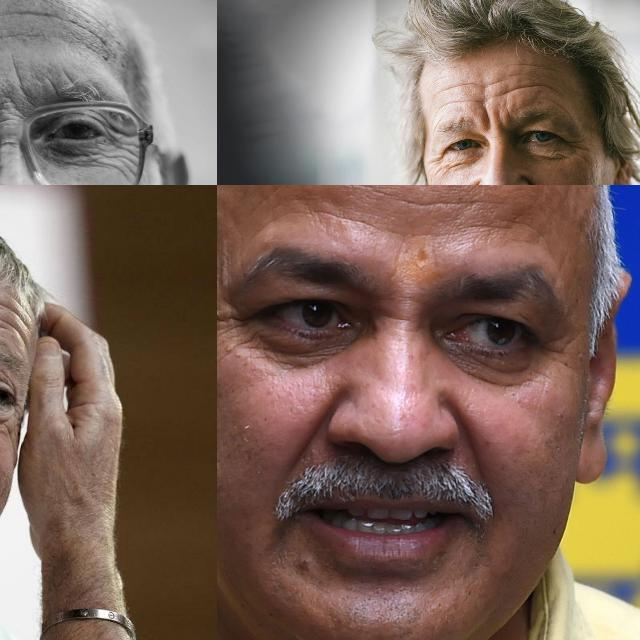crows_feet: (105, 122, 135, 168), (217, 308, 254, 342), (4, 421, 18, 457), (564, 138, 588, 158), (433, 152, 449, 176)
forehead: (312, 207, 392, 233), (494, 71, 554, 99), (48, 6, 94, 40), (413, 190, 477, 214), (0, 293, 26, 345), (441, 76, 484, 106), (0, 0, 41, 28)
frown_line: (8, 63, 36, 104), (477, 105, 509, 137), (378, 306, 412, 326)
gummy_smile: (297, 396, 329, 464), (459, 412, 493, 474), (522, 174, 549, 185)
